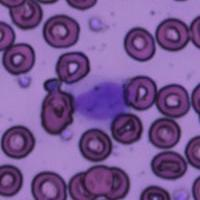L: (74, 78, 127, 125)
